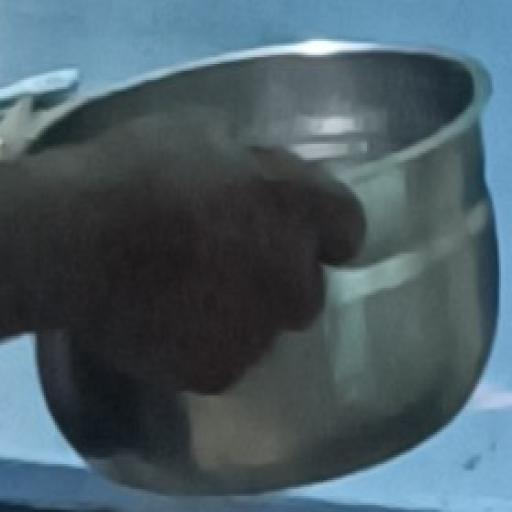vessel: (17, 36, 502, 500)
